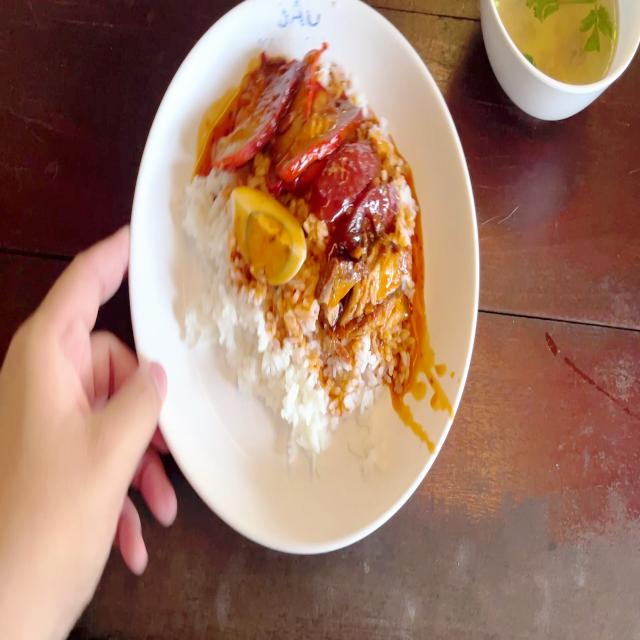boiled_egg: (234, 192, 303, 273)
chainese_sausage: (326, 145, 398, 242)
crispy_pork: (322, 242, 409, 336)
red_pork: (218, 53, 338, 169)
red_pork_and_crispy_pork: (187, 52, 415, 444)
rice: (185, 274, 324, 433), (325, 338, 393, 418), (186, 167, 232, 281)
